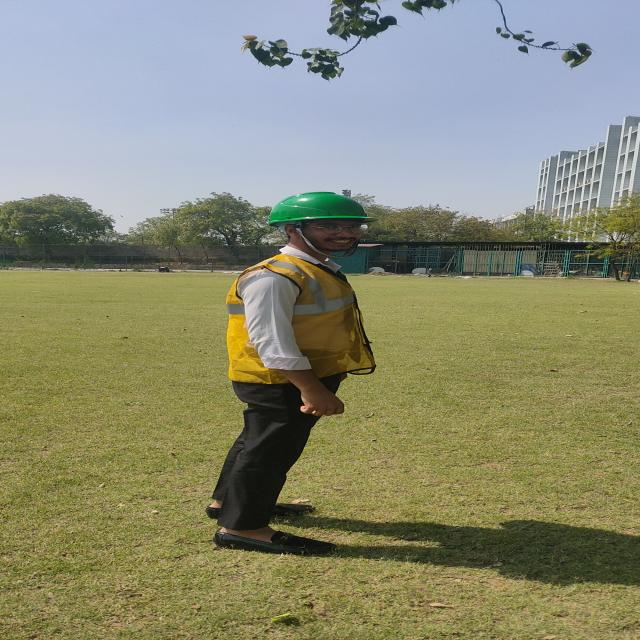safe: (206, 192, 373, 554)
